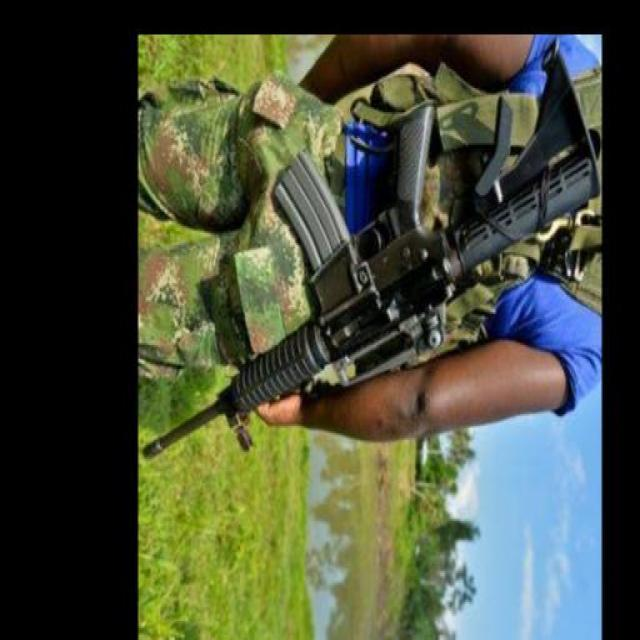weapon: (140, 37, 602, 463)
